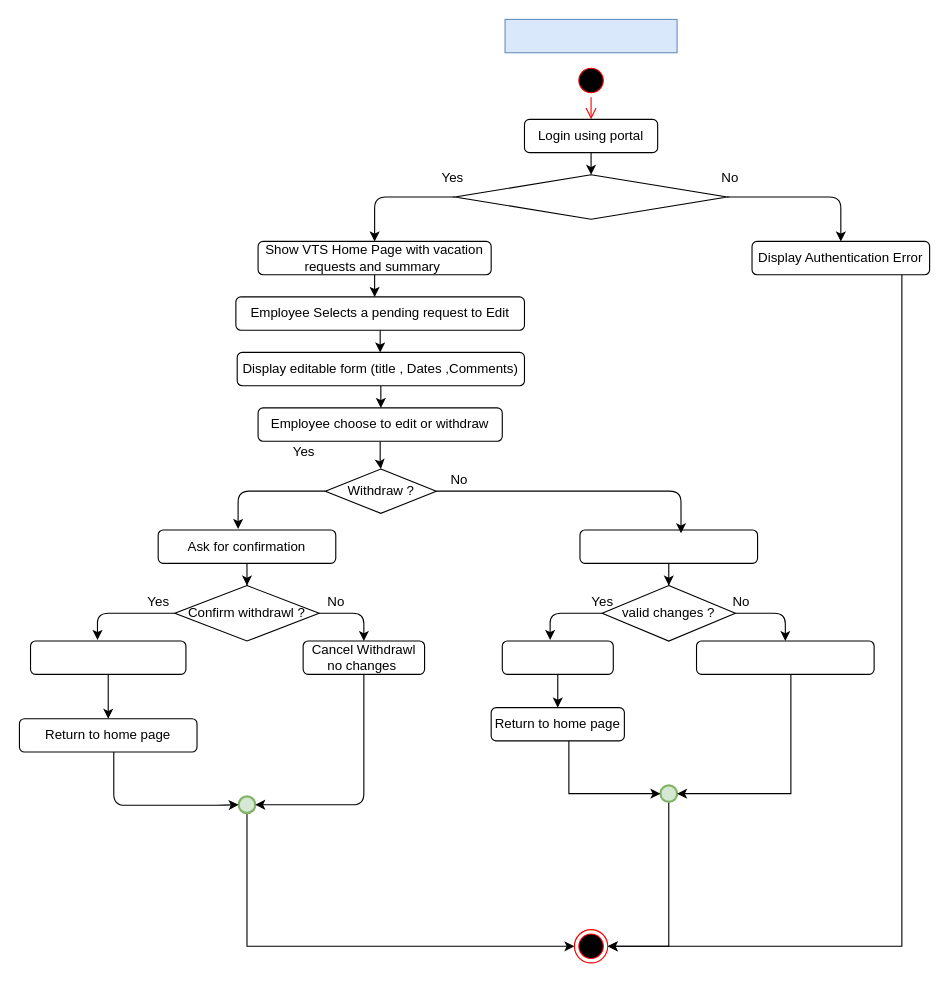
This 949x982 diagram has some shape labels left out. Each missing label, with the box of its shape:
apply changes: (501, 640, 613, 674)
display the form with validation errors: (695, 640, 874, 674)
Edit or withdraw request: (504, 18, 677, 53)
Is Employee Authenticated?: (454, 174, 727, 219)
validate changes: (579, 529, 758, 563)
withdraw the request: (29, 640, 186, 674)
